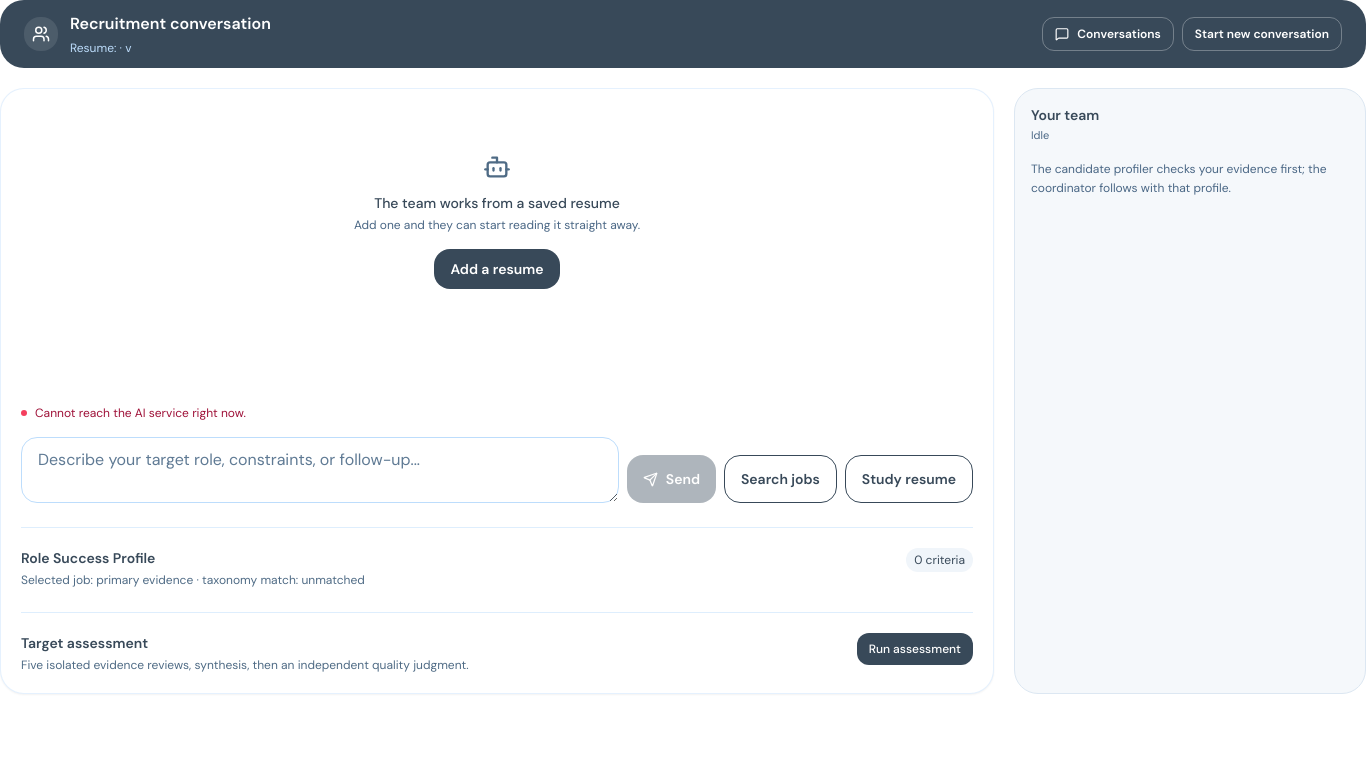
Test case: RecruitmentTeamPanel › runs and renders the judged multi-agent target assessment
Click the button "Run assessment". click: {"x": 915, "y": 649}
box: [857,633,973,665]
(page scrolled)
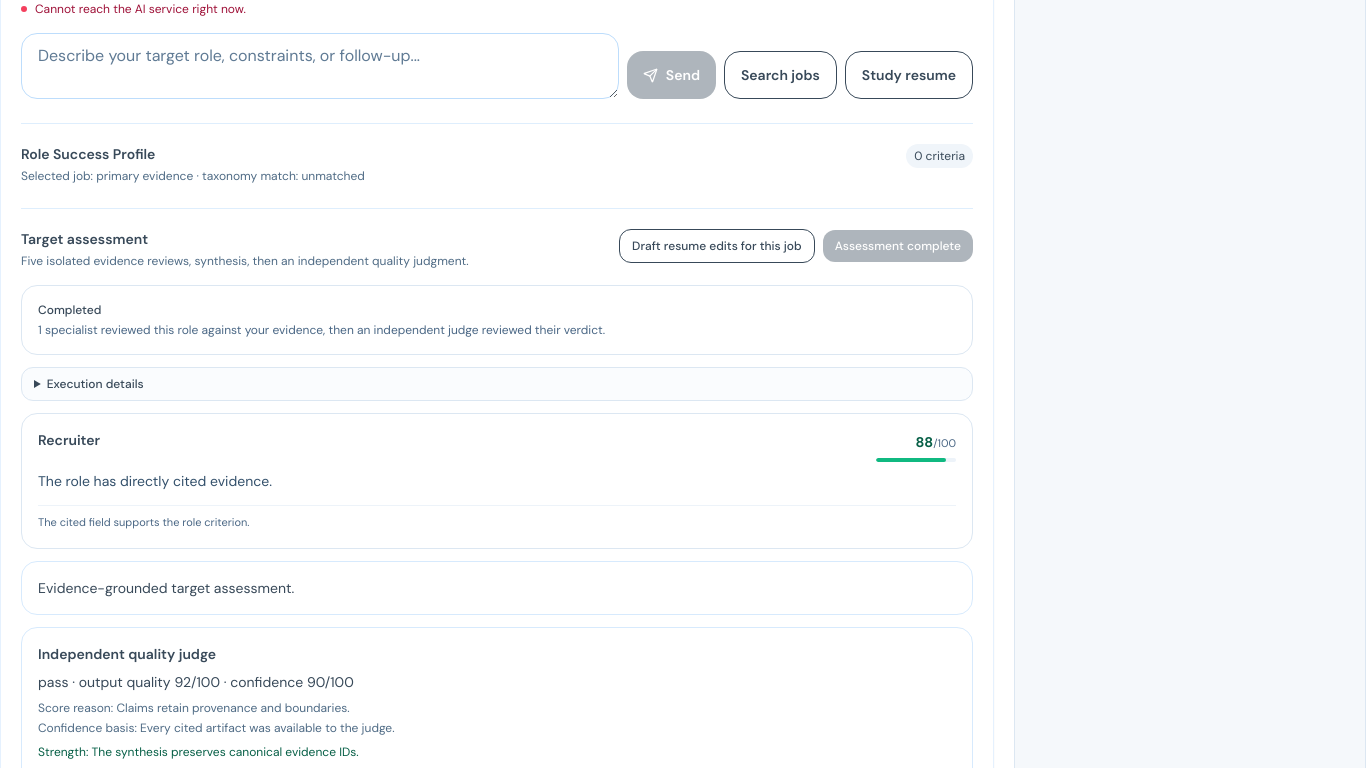
Check: the text "The role has directly cited evidence." is shown, box [38,472,272,490]
Check: the text "Evidence-grounded target assessment." is shown, box [21,561,973,615]
Check: the text "output quality 92/100" is shown, box [38,673,354,691]
